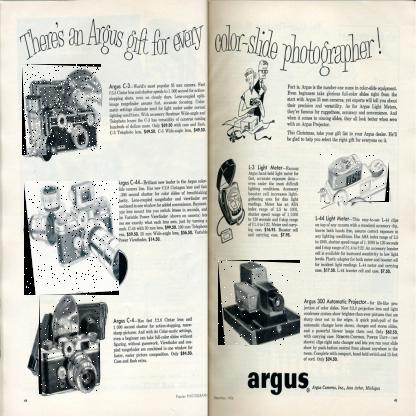Camera: (25, 182, 121, 297), (23, 65, 103, 157), (219, 261, 302, 347), (40, 295, 102, 396), (322, 154, 392, 204)
